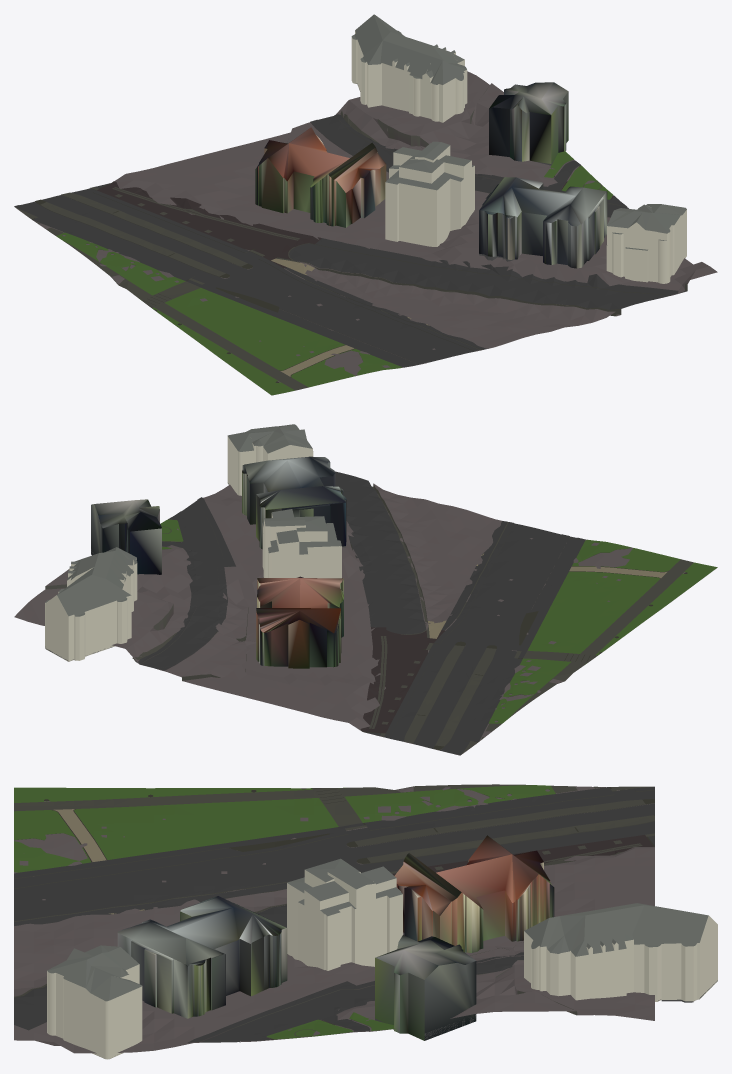
The picture shows the model from 3 angles, top to bottom: view 1: azimuth 30°, elevation 25°; view 2: azimuth 150°, elevation 25°; view 3: azimuth 270°, elevation 25°; orthographic projection. The views are drawn at different scales.
Parts seen in each view (by area): view 1: c_m08_p11; view 2: c_m08_p11; view 3: c_m08_p11.
Part boxes in pixels (box(x1,y1,x2,y2)): c_m08_p11: box(14, 14, 717, 395); c_m08_p11: box(14, 424, 717, 755); c_m08_p11: box(14, 784, 717, 1059).
Bounding box in the file's own units: 132 × 26.09 × 141.
